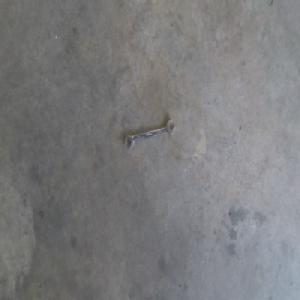Wrench: (123, 119, 175, 152)
